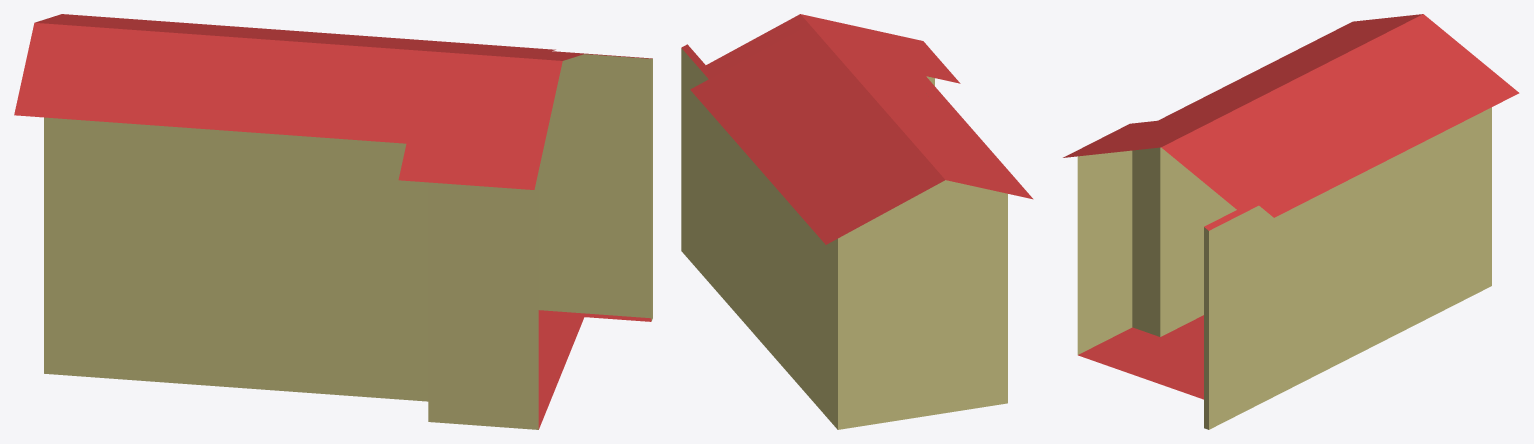
3 renders of one model, left to right at view 1: azimuth 30°, elevation 25°; view 2: azimuth 150°, elevation 25°; view 3: azimuth 270°, elevation 25°, orthographic. The views are drawn at different scales.
Size of the model in its own units: 18.32 by 17.38 by 9.95.
